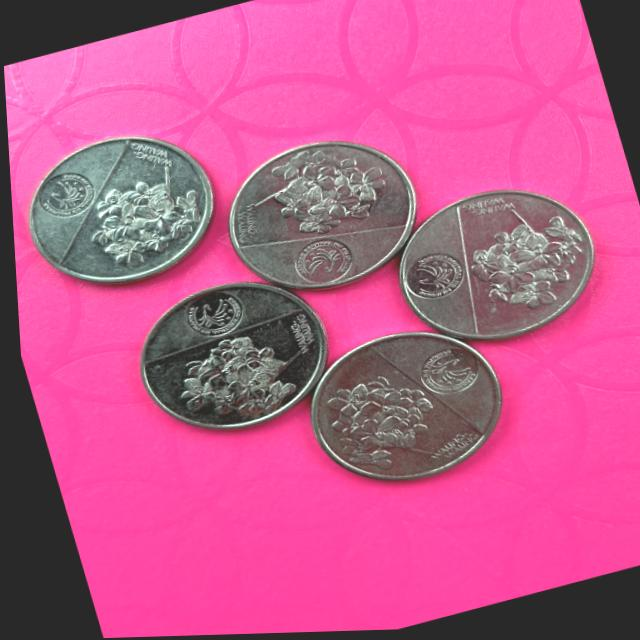1_New_Back: (453, 203, 597, 329), (244, 142, 399, 255), (312, 366, 450, 488), (79, 164, 211, 287), (167, 323, 303, 430)
